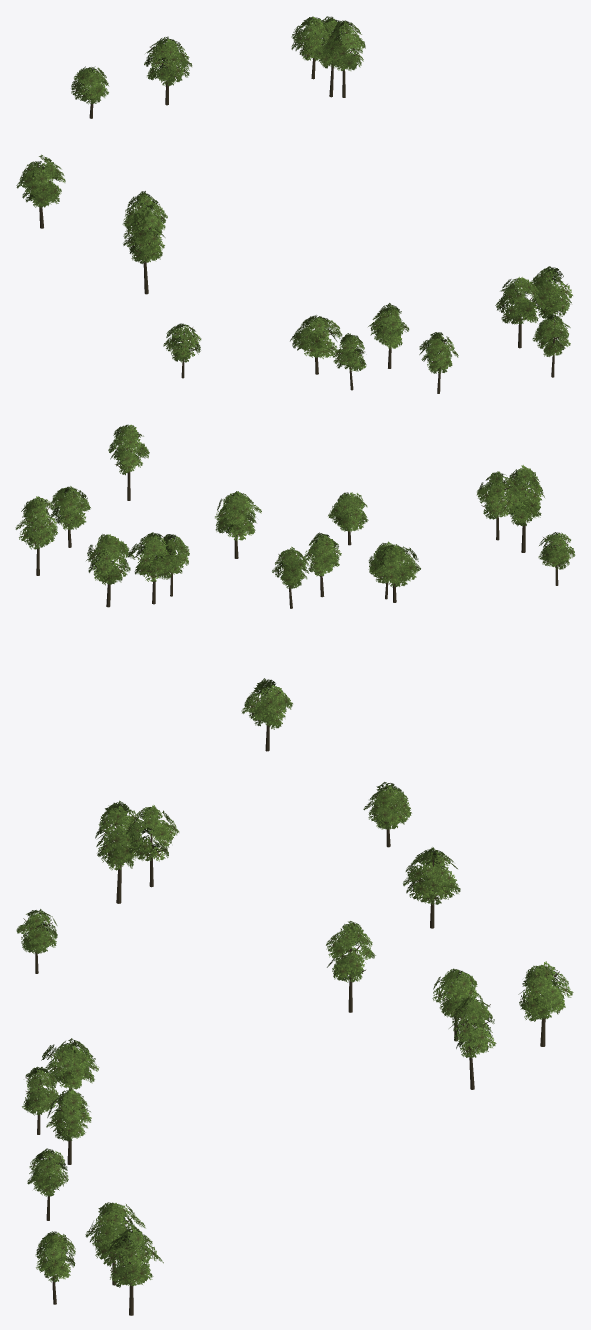
Rendered from TRB8-FOREST-CHUNK-7-0.glb.
The picture shows the model from 3 angles, top to bottom: view 1: azimuth 30°, elevation 25°; view 2: azimuth 150°, elevation 25°; view 3: azimuth 270°, elevation 25°; orthographic projection. The views are drawn at different scales.
Visible parts, largest first — view 1: TRB8-FOREST-CHUNK-7-0; view 2: TRB8-FOREST-CHUNK-7-0; view 3: TRB8-FOREST-CHUNK-7-0.
Boxes of the visible parts, x1,y1,x2,y2 form: TRB8-FOREST-CHUNK-7-0: [16, 16, 572, 393]; TRB8-FOREST-CHUNK-7-0: [15, 424, 575, 751]; TRB8-FOREST-CHUNK-7-0: [16, 782, 573, 1315].
Size of the model in its own units: 32.54 by 19.55 by 29.67.
Materials: 2 (1 with a texture image).
